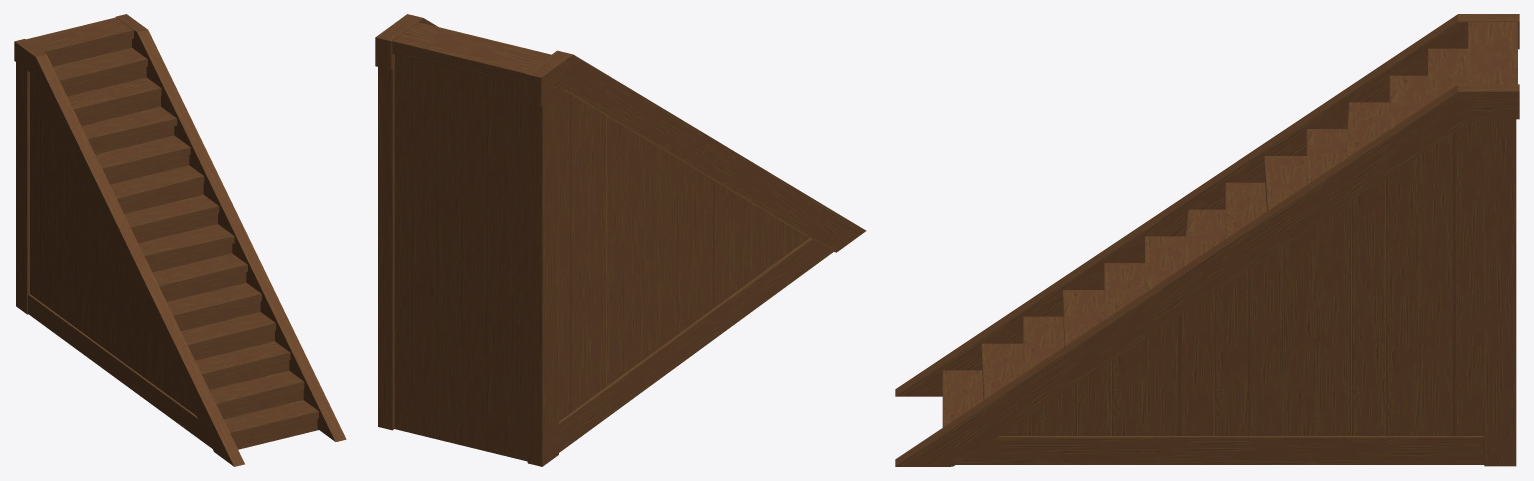
Rendered from med-escada-interna.gltf.
The picture shows the model from 3 angles, left to right: view 1: azimuth 30°, elevation 25°; view 2: azimuth 150°, elevation 25°; view 3: azimuth 270°, elevation 25°; orthographic projection. The views are drawn at different scales.
Parts seen in each view (by area): view 1: med-escada-interna; view 2: med-escada-interna; view 3: med-escada-interna.
Boxes of the visible parts, x1,y1,x2,y2 form: med-escada-interna: (14,14,346,466); med-escada-interna: (375,14,866,466); med-escada-interna: (895,14,1519,466).
Size of the model in its own units: 0.8844 by 2 by 3.
1 material, 1 textured.
